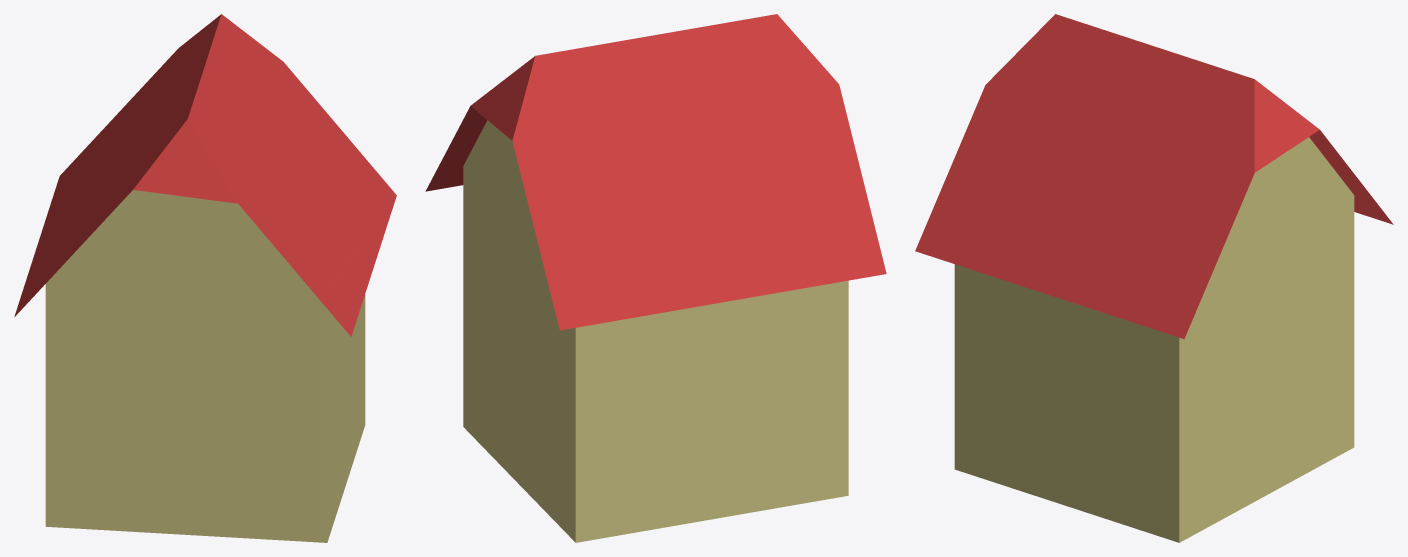
3 renders of one model, left to right at view 1: azimuth 30°, elevation 25°; view 2: azimuth 150°, elevation 25°; view 3: azimuth 270°, elevation 25°, orthographic. The views are drawn at different scales.
Visible parts, largest first — view 1: group_5, group_3, group_4; view 2: group_5, group_3, group_4; view 3: group_5, group_3, group_4.
Part boxes in pixels (<box>): group_5: <box>45,190,365,542</box>; group_3: <box>46,14,396,335</box>; group_4: <box>14,49,396,336</box>; group_5: <box>463,120,848,542</box>; group_3: <box>429,14,885,330</box>; group_4: <box>425,40,886,329</box>; group_5: <box>954,137,1354,542</box>; group_3: <box>915,14,1393,338</box>; group_4: <box>915,86,1322,337</box>.
Size of the model in its own units: 17.04 by 17.03 by 16.15.
